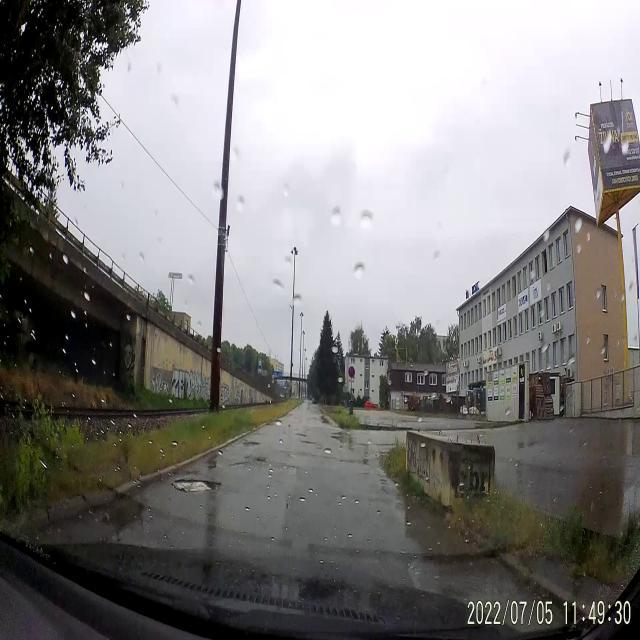Pothole: (173, 474, 220, 496), (228, 458, 251, 470), (253, 452, 269, 468), (300, 438, 320, 449), (244, 438, 262, 448), (294, 430, 308, 437)
